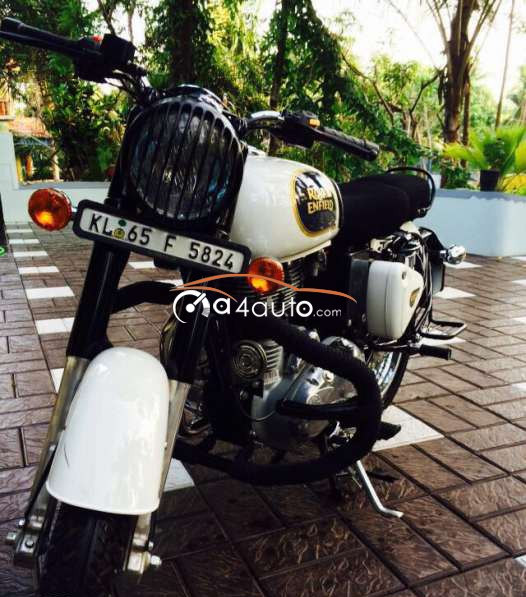numberplate: (72, 196, 249, 276)
